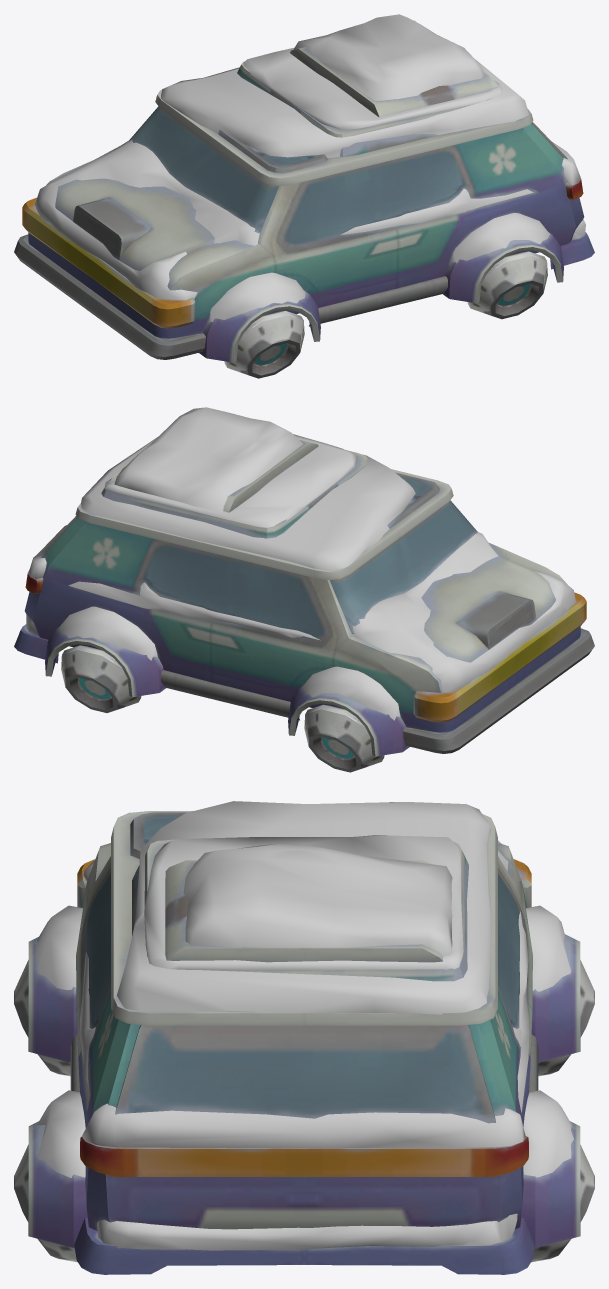
File: pref_sm_city_car02_snow_lv3.fbx
3 renders of one model, top to bottom at view 1: azimuth 30°, elevation 25°; view 2: azimuth 150°, elevation 25°; view 3: azimuth 270°, elevation 25°, orthographic. The views are drawn at different scales.
Visible parts, largest first — view 1: sm_city_car02_snow_lv3, sm_city_car02b_snow_lv3; view 2: sm_city_car02_snow_lv3, sm_city_car02b_snow_lv3; view 3: sm_city_car02_snow_lv3, sm_city_car02b_snow_lv3.
Part boxes in pixels (x1=…): sm_city_car02_snow_lv3: x1=14, y1=20, x2=594, y2=378; sm_city_car02b_snow_lv3: x1=35, y1=14, x2=585, y2=322; sm_city_car02_snow_lv3: x1=14, y1=440, x2=594, y2=772; sm_city_car02b_snow_lv3: x1=26, y1=407, x2=575, y2=720; sm_city_car02_snow_lv3: x1=14, y1=811, x2=594, y2=1274; sm_city_car02b_snow_lv3: x1=35, y1=801, x2=573, y2=1250.
Size of the model in its own units: 5.34 by 2.62 by 3.87.
